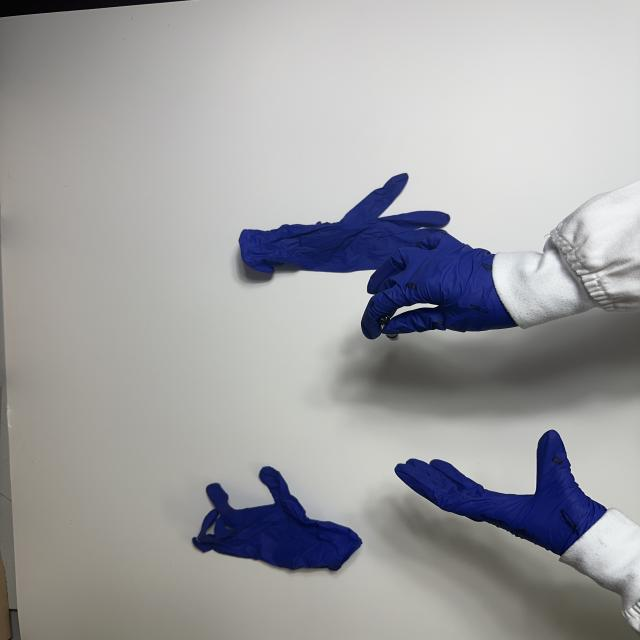gloves_contaminated: (395, 430, 605, 555), (362, 233, 515, 337)
